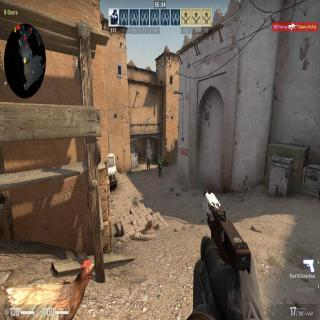CT-Body: (158, 161, 162, 176), (146, 156, 150, 169), (136, 150, 138, 161)
CT-Head: (147, 156, 149, 159), (158, 162, 160, 165), (136, 150, 138, 153)
